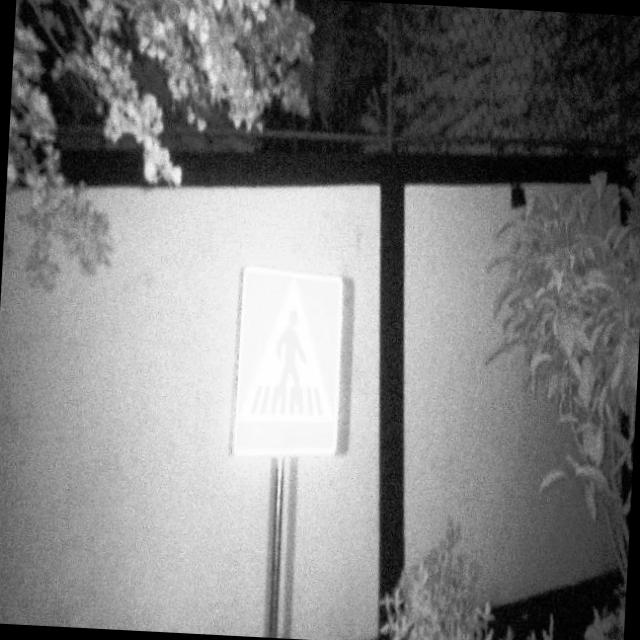Sign: (228, 261, 349, 468)
